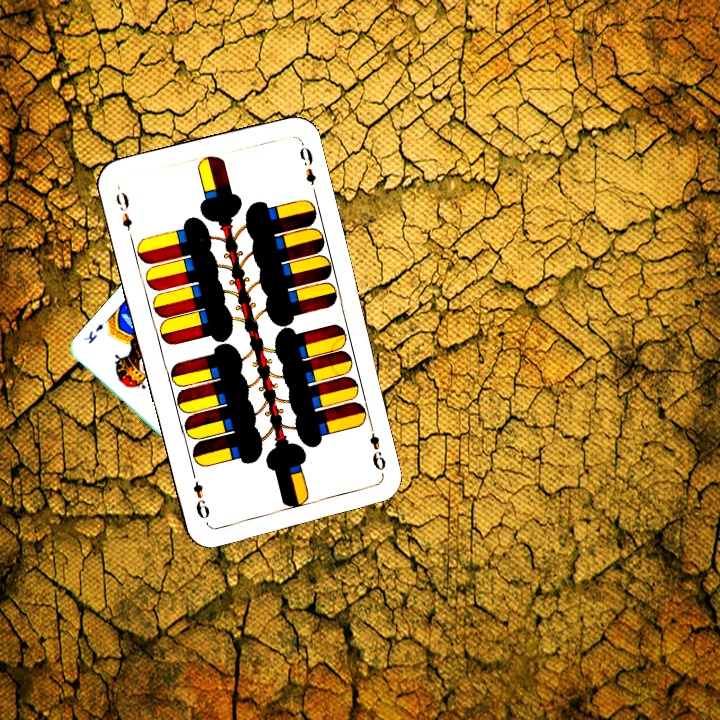E9: (365, 420, 388, 478), (111, 188, 135, 233)
